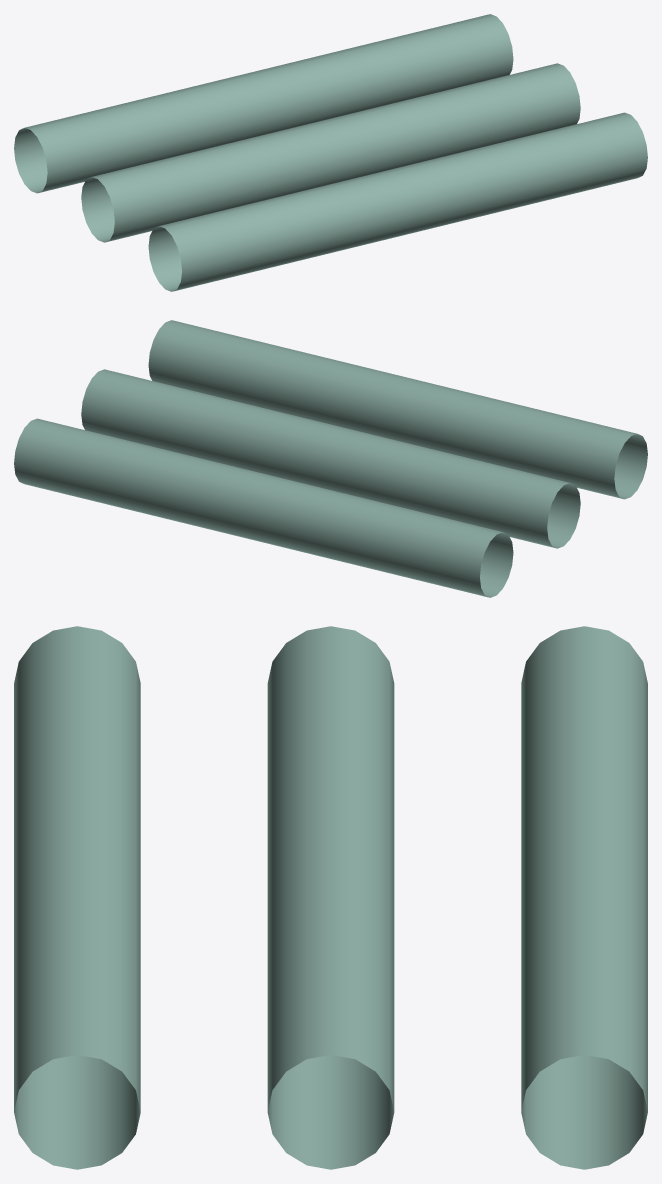
File: PipeComplexLarge_A3_04.fbx
3 views of the same model, one above another, from view 1: azimuth 30°, elevation 25°; view 2: azimuth 150°, elevation 25°; view 3: azimuth 270°, elevation 25° (orthographic). The views are drawn at different scales.
Parts seen in each view (by area): view 1: PipeComplexLarge_A3_04.001; view 2: PipeComplexLarge_A3_04.001; view 3: PipeComplexLarge_A3_04.001.
Part boxes in pixels (x1=…): PipeComplexLarge_A3_04.001: x1=14, y1=14, x2=647, y2=291; PipeComplexLarge_A3_04.001: x1=14, y1=320, x2=647, y2=597; PipeComplexLarge_A3_04.001: x1=14, y1=626, x2=647, y2=1169.
Size of the model in its own units: 1.6 by 0.2 by 1.
